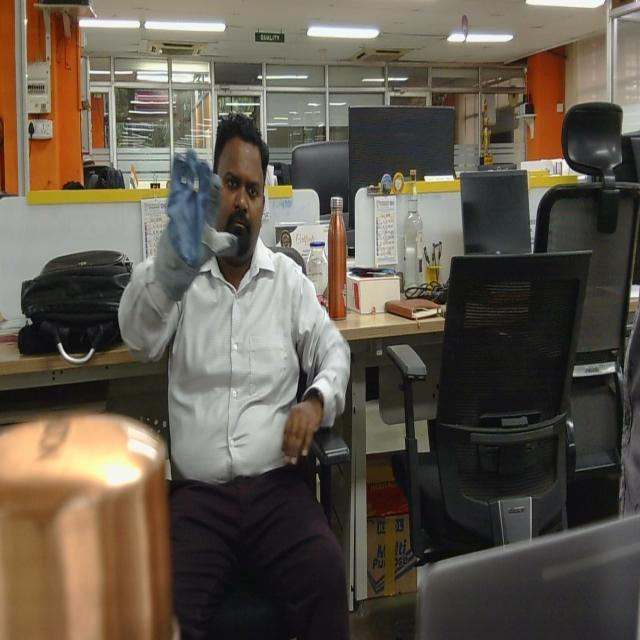Gloves-Detection: (147, 138, 236, 300)
